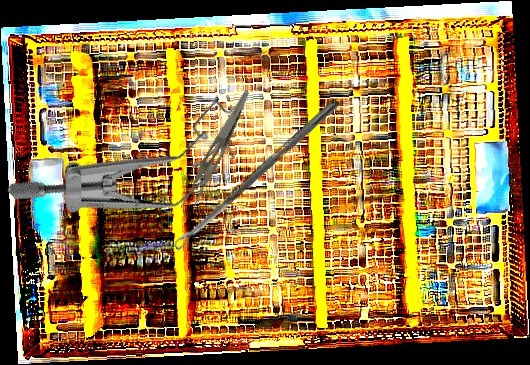Dressing Forceps: (178, 83, 251, 216)
Speculum: (4, 37, 262, 288)
Surgical Spoon: (171, 97, 341, 251)
